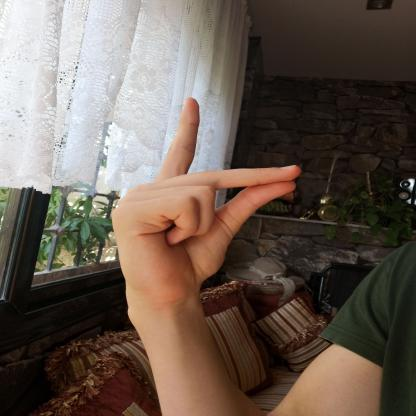TAA: (95, 87, 313, 316)
